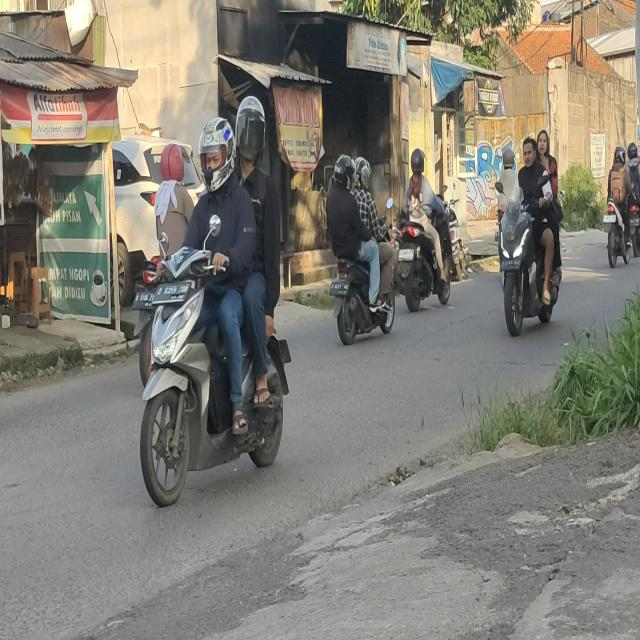helmet: (200, 115, 236, 187), (237, 97, 266, 166), (161, 144, 182, 185), (336, 151, 356, 193), (356, 157, 371, 191), (411, 146, 425, 174), (503, 148, 515, 168), (614, 146, 626, 166), (628, 142, 638, 158)
no-helmet: (522, 139, 536, 166), (537, 130, 549, 155)
